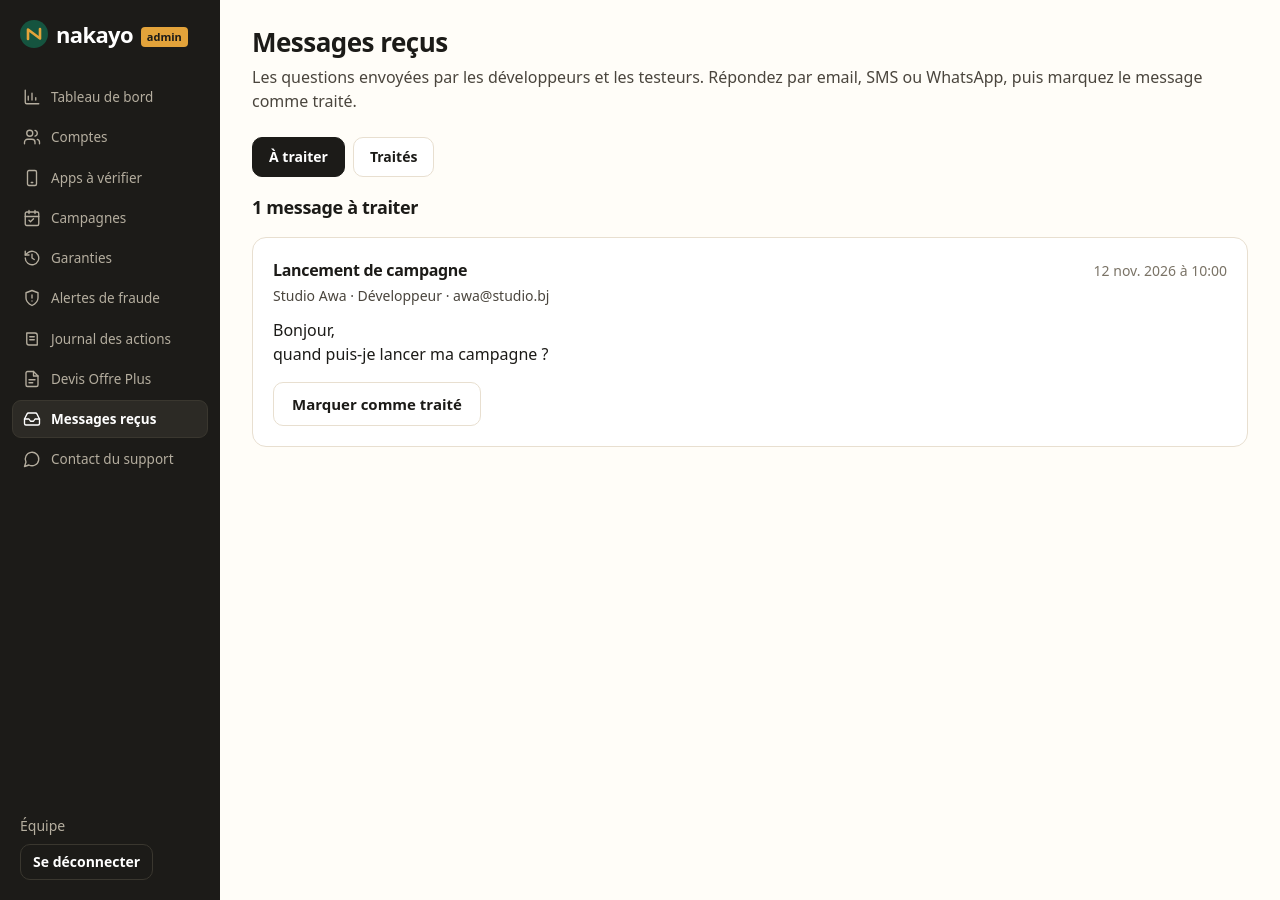
Scenario: Back-office : messages reçus (US-40) › liste les messages à traiter et en marque un comme traité
Expected: the heading "1 message à traiter" is shown, [252,195,418,219]
Expected: the element "Lancement de campagne" shows "Studio Awa · Développeur · awa@studio.bj", [252,237,1248,447]
Click the button "Marquer comme traité".
click(377, 404)  # box [273,382,481,426]
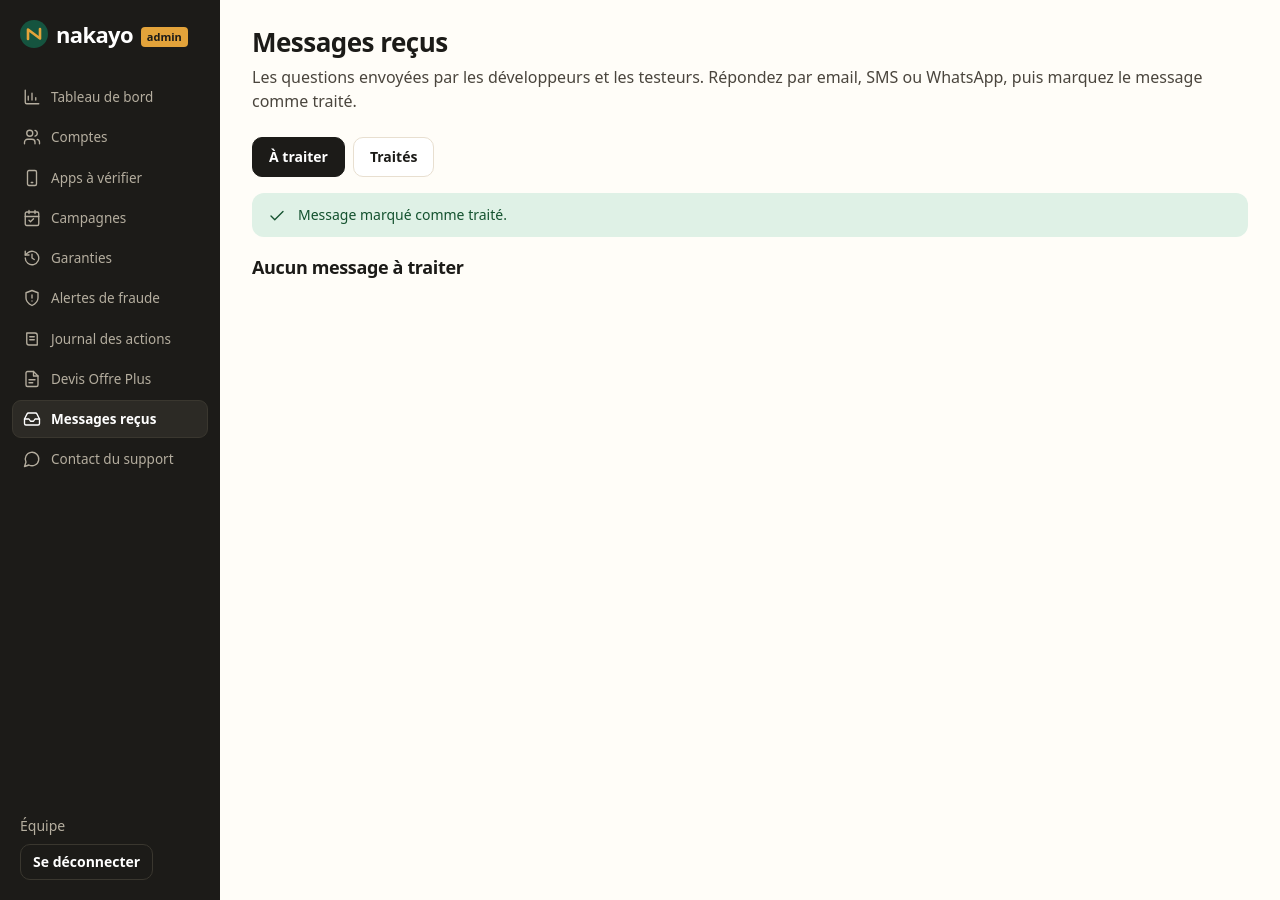
Result: the text "Message marqué comme traité." is shown at [298,205,507,225]
Result: the heading "Aucun message à traiter" is shown at [252,255,464,279]
